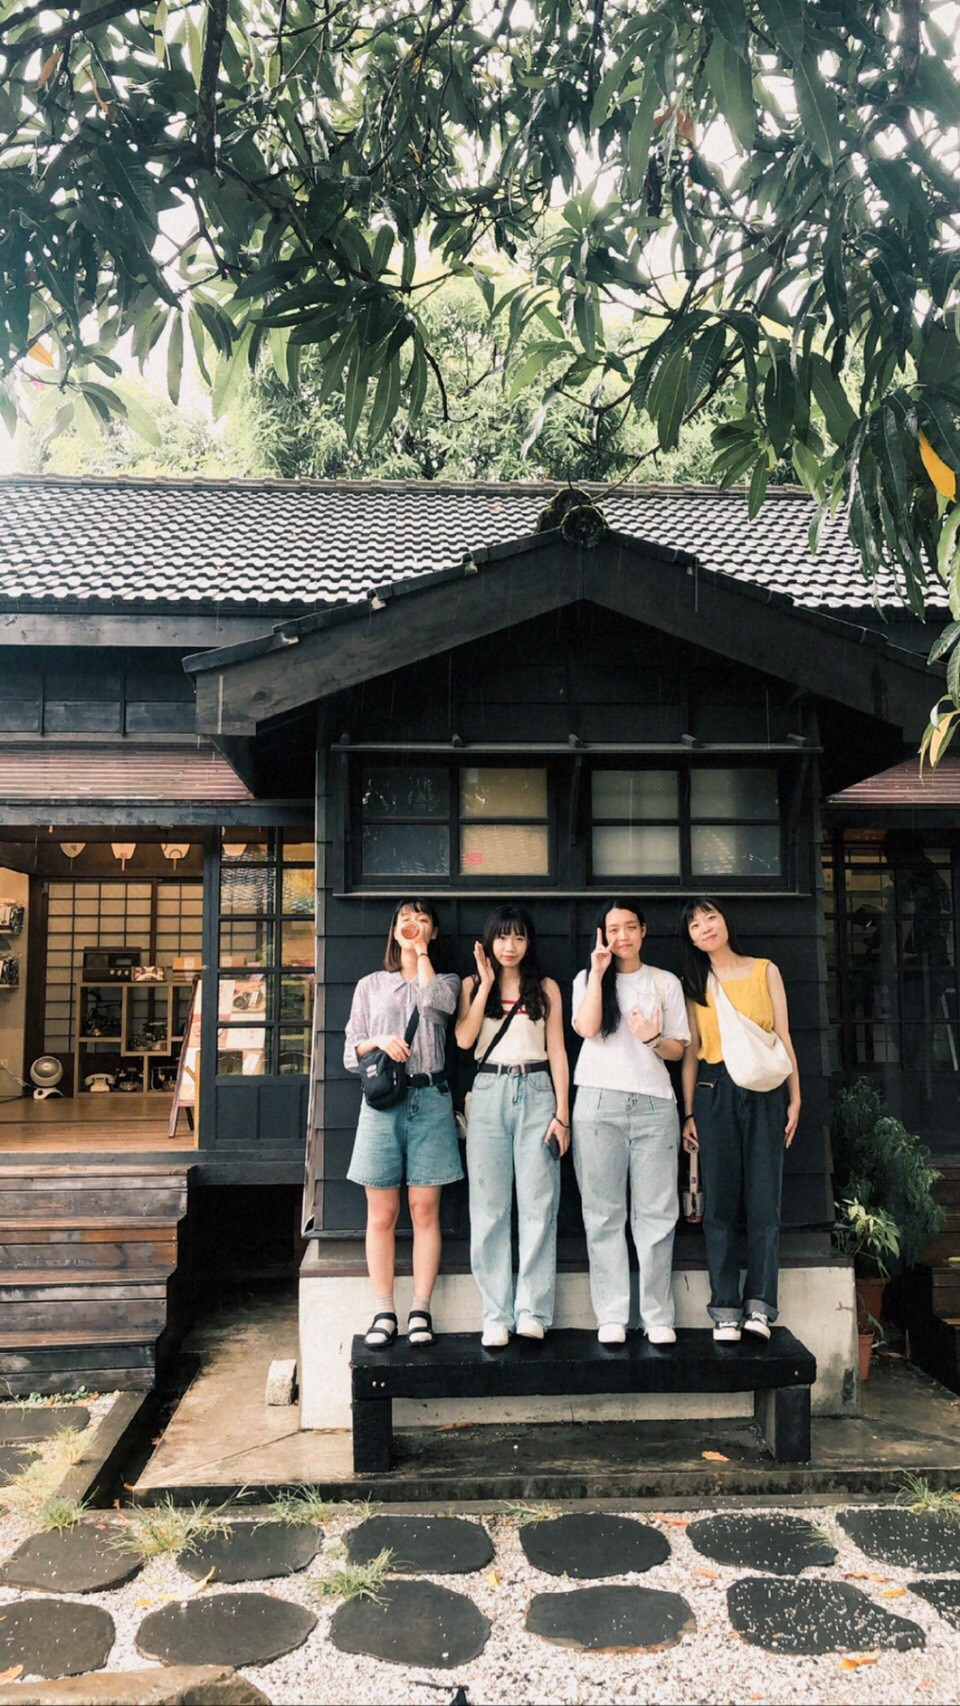people: (457, 910, 573, 1351), (570, 902, 684, 1345), (684, 902, 792, 1345), (373, 902, 460, 1345)
